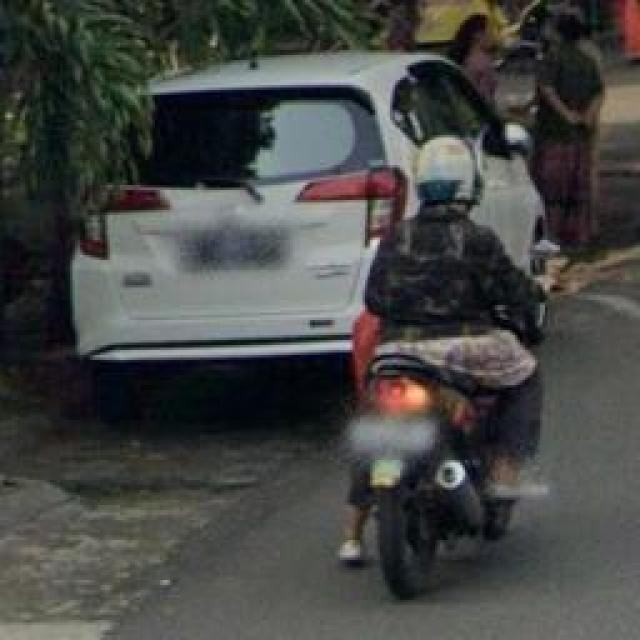Mobil: (70, 50, 540, 418)
Motor: (348, 352, 515, 600)
